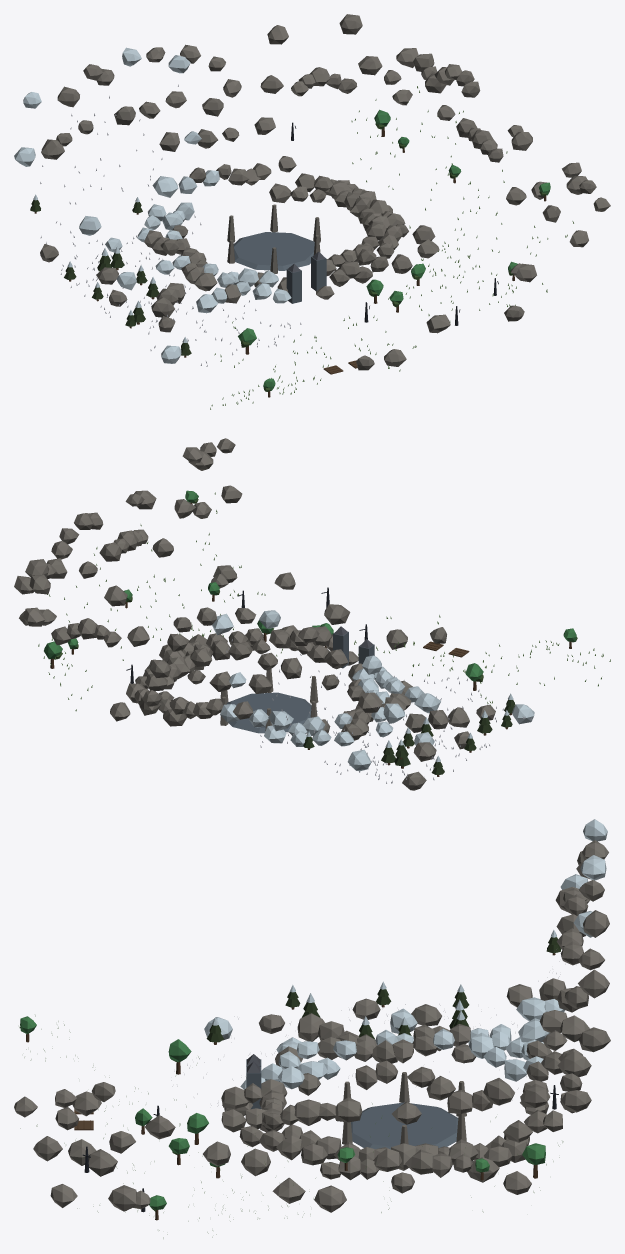
The model's file is scenery-1.glb.
3 renders of one model, top to bottom at view 1: azimuth 30°, elevation 25°; view 2: azimuth 150°, elevation 25°; view 3: azimuth 270°, elevation 25°, orthographic. The views are drawn at different scales.
Parts seen in each view (by area): view 1: Sector_5_0, Sector_5_1, Sector_6_0, Sector_4_1, Sector_5_2, Sector_4_0, Sector_6_2, Sector_7_0, Sector_7_3, Sector_4_2, Sector_7_1, Sector_6_1 (+2 smaller); view 2: Sector_5_0, Sector_6_0, Sector_4_1, Sector_4_0, Sector_7_3, Sector_7_0, Sector_5_1, Sector_4_2, Sector_5_2, Sector_7_1, Sector_6_2, Sector_6_1 (+3 smaller); view 3: Sector_5_1, Sector_5_0, Sector_6_0, Sector_7_0, Sector_7_1, Sector_6_2, Sector_7_3, Sector_4_1, Sector_6_1, Sector_4_0, Sector_5_2, Sector_7_2 (+3 smaller).
Part boxes in pixels (x1,y1,x2,y2): Sector_5_0: [114, 44, 231, 234]; Sector_5_1: [165, 204, 320, 284]; Sector_6_0: [208, 25, 350, 202]; Sector_4_1: [64, 230, 217, 317]; Sector_5_2: [217, 251, 350, 346]; Sector_4_0: [14, 64, 152, 274]; Sector_6_2: [328, 225, 453, 315]; Sector_7_0: [309, 14, 437, 189]; Sector_7_3: [479, 162, 610, 321]; Sector_4_2: [125, 287, 268, 367]; Sector_7_1: [387, 64, 480, 244]; Sector_6_1: [329, 180, 408, 240]; Sector_5_0: [190, 607, 331, 749]; Sector_6_0: [94, 585, 212, 726]; Sector_4_1: [341, 693, 489, 776]; Sector_4_0: [290, 626, 434, 790]; Sector_7_3: [174, 438, 295, 630]; Sector_7_0: [14, 559, 97, 711]; Sector_5_1: [220, 668, 389, 735]; Sector_4_2: [404, 663, 534, 735]; Sector_5_2: [307, 626, 449, 702]; Sector_7_1: [46, 512, 171, 670]; Sector_6_2: [206, 620, 333, 657]; Sector_6_1: [135, 639, 230, 691]; Sector_5_1: [318, 1028, 475, 1149]; Sector_5_0: [469, 855, 609, 1100]; Sector_6_0: [467, 948, 609, 1194]; Sector_7_0: [471, 1027, 610, 1212]; Sector_7_1: [314, 1060, 472, 1212]; Sector_6_2: [168, 1097, 327, 1221]; Sector_7_3: [14, 1082, 175, 1238]; Sector_4_1: [317, 981, 470, 1060]; Sector_6_1: [315, 1136, 478, 1180]; Sector_4_0: [468, 819, 608, 1044]; Sector_5_2: [172, 1041, 328, 1126]; Sector_7_2: [203, 1083, 321, 1237].
Size of the model in its own units: 31.8 by 14.98 by 31.67.
Materials: 1 (1 with a texture image).
